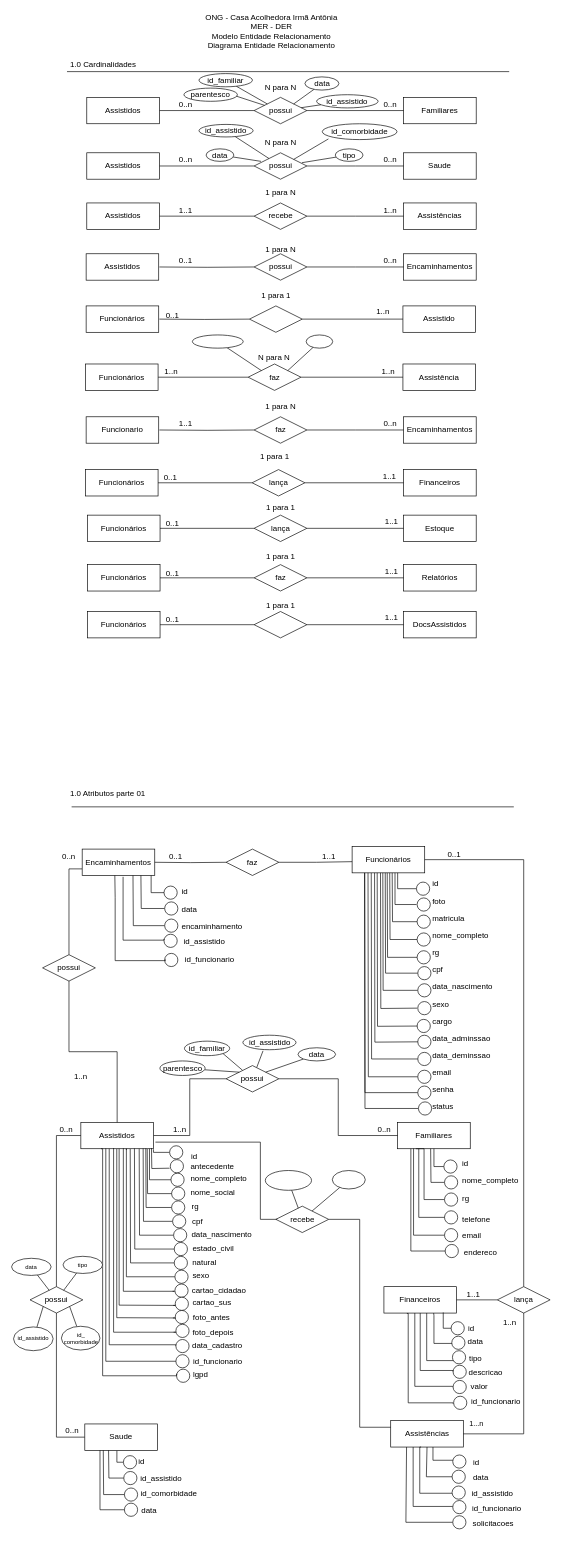
Image size: 562x1544. Some labels were removed from this diagram. Each missing label, with the centre of its shape:
"assistencia" goes at (x=217, y=341).
"cadastra" goes at (x=275, y=318).
"digitaliza" goes at (x=280, y=624).
"id_assistencia" goes at (x=288, y=1180).
"id_itens" goes at (x=348, y=1179).
"Itens" goes at (x=319, y=341).
